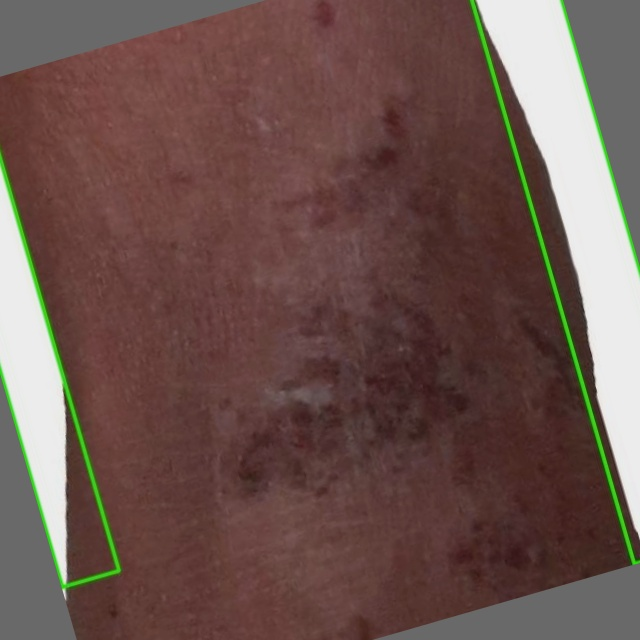Contact Dermatitis: (472, 0, 639, 563), (0, 158, 119, 587)
